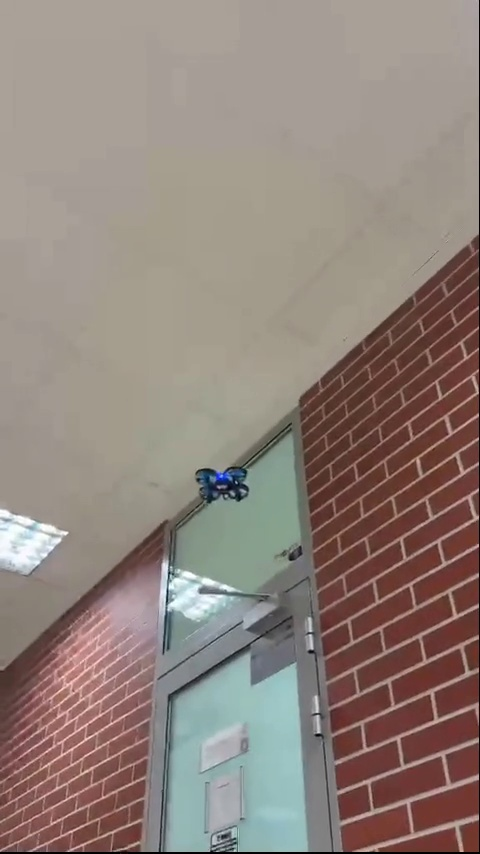drone: (197, 466, 245, 505)
